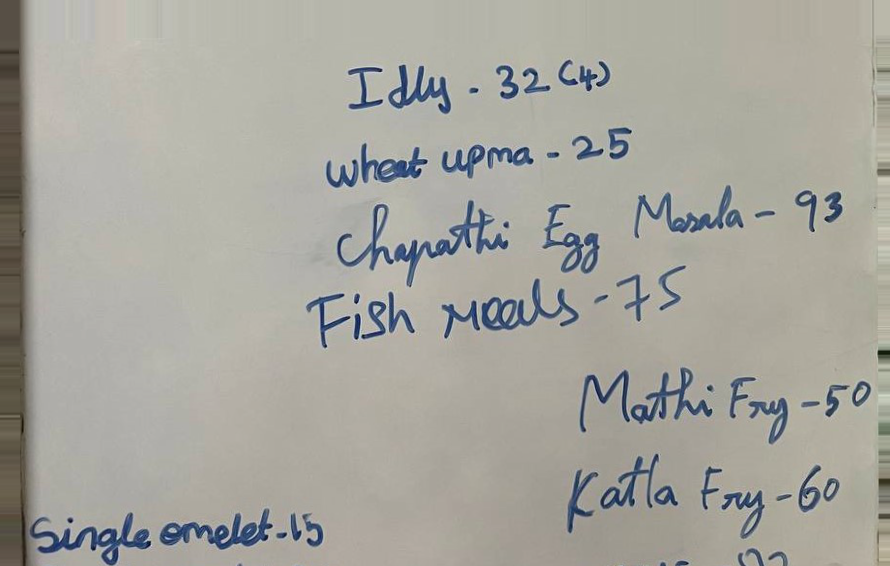chapathi egg masala - 93: (335, 190, 857, 267)
fish Meals - 75: (305, 271, 688, 353)
idly(4) - 32: (343, 54, 612, 113)
katla fry - 60: (566, 457, 843, 534)
mathi fry - 50: (573, 366, 872, 448)
single omelet - 15: (27, 510, 330, 562)
wheat upma - 25: (323, 126, 634, 190)
